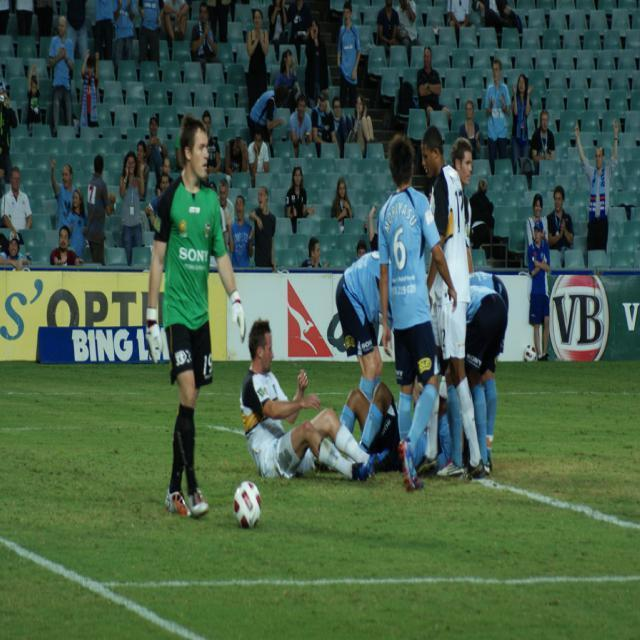football: (220, 470, 270, 529)
